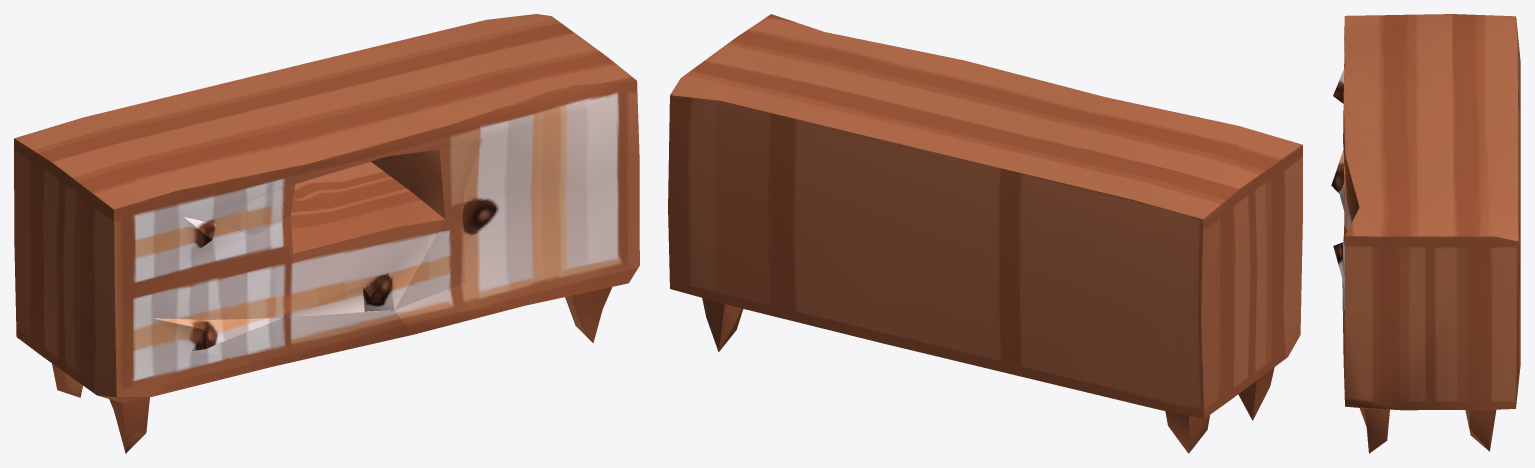
The model's file is family-sideboard.glb.
3 renders of one model, left to right at view 1: azimuth 30°, elevation 25°; view 2: azimuth 150°, elevation 25°; view 3: azimuth 270°, elevation 25°, orthographic. The views are drawn at different scales.
Parts seen in each view (by area): view 1: geometry_0; view 2: geometry_0; view 3: geometry_0.
Boxes of the visible parts, bbox=[...] form: geometry_0: bbox=[14, 14, 639, 453]; geometry_0: bbox=[668, 14, 1302, 453]; geometry_0: bbox=[1331, 14, 1520, 453].
Bounding box in the file's own units: 1 × 0.4868 × 0.3567.
Materials: 1 (1 with a texture image).
